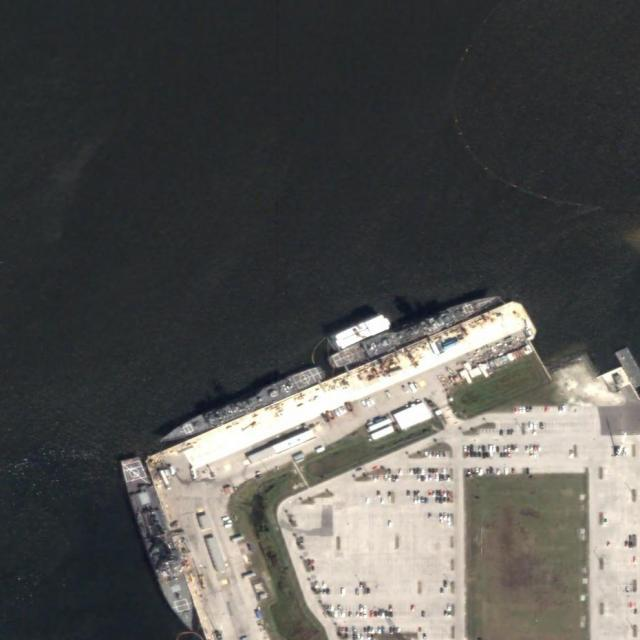Destroyer: (118, 454, 202, 634)
Frigate: (327, 288, 503, 372), (157, 363, 325, 447)
